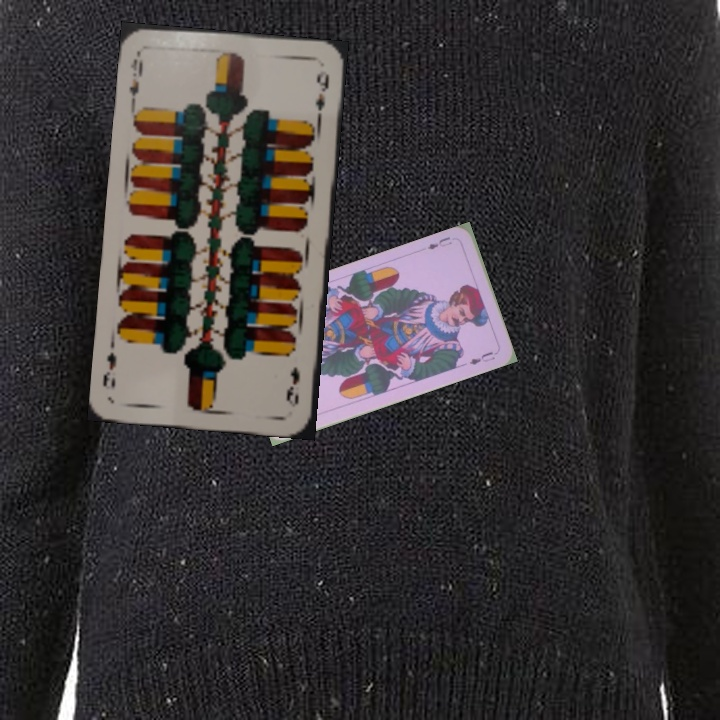E9: (125, 48, 146, 107), (282, 363, 303, 410)
EU: (423, 232, 454, 252)
